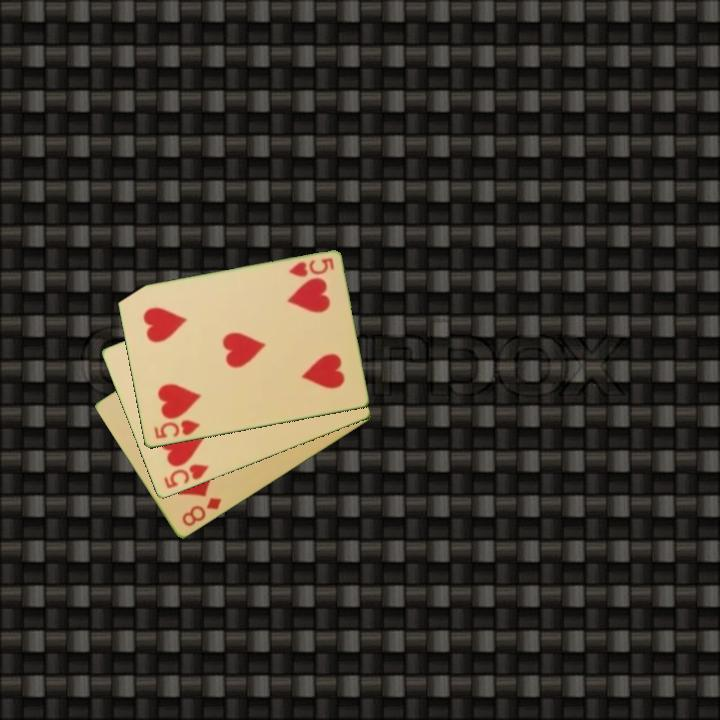5h: (160, 461, 211, 492), (285, 254, 337, 280), (150, 417, 203, 442)
8d: (178, 494, 225, 530)
